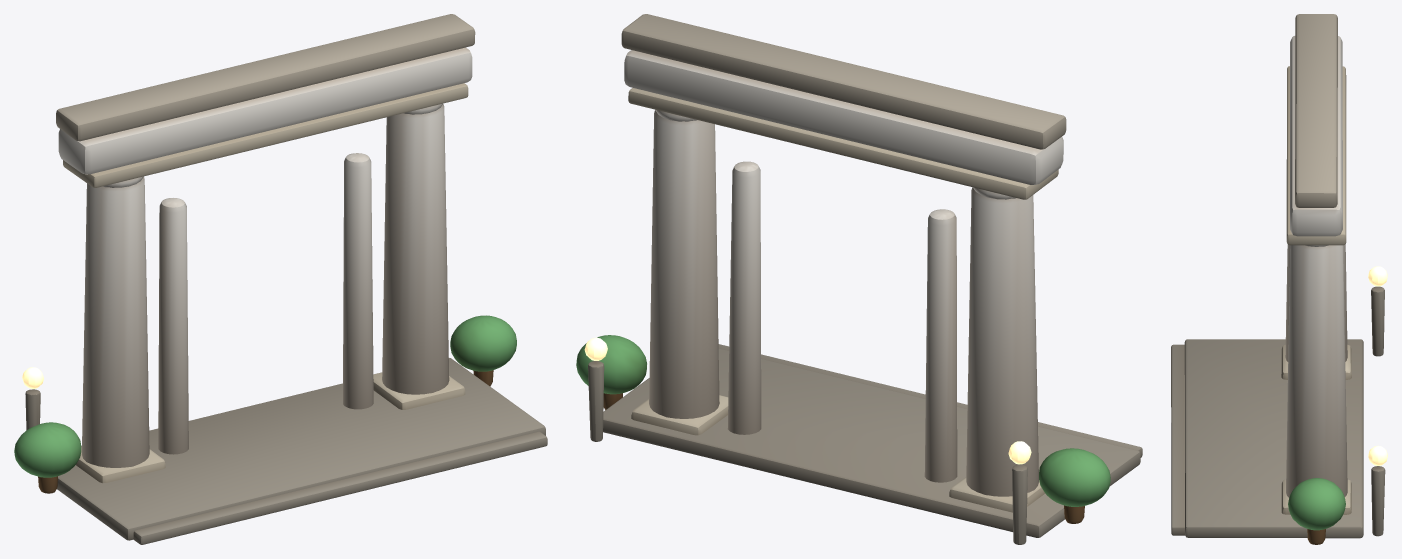
3 renders of one model, left to right at view 1: azimuth 30°, elevation 25°; view 2: azimuth 150°, elevation 25°; view 3: azimuth 270°, elevation 25°, orthographic. The views are drawn at different scales.
Parts seen in each view (by area): view 1: gate_509c7678; view 2: gate_509c7678; view 3: gate_509c7678.
Part boxes in pixels (x1=…): gate_509c7678: x1=14, y1=14, x2=547, y2=544; gate_509c7678: x1=576, y1=14, x2=1142, y2=544; gate_509c7678: x1=1171, y1=14, x2=1387, y2=544.
Size of the model in its own units: 6.2 by 4.45 by 2.54.
